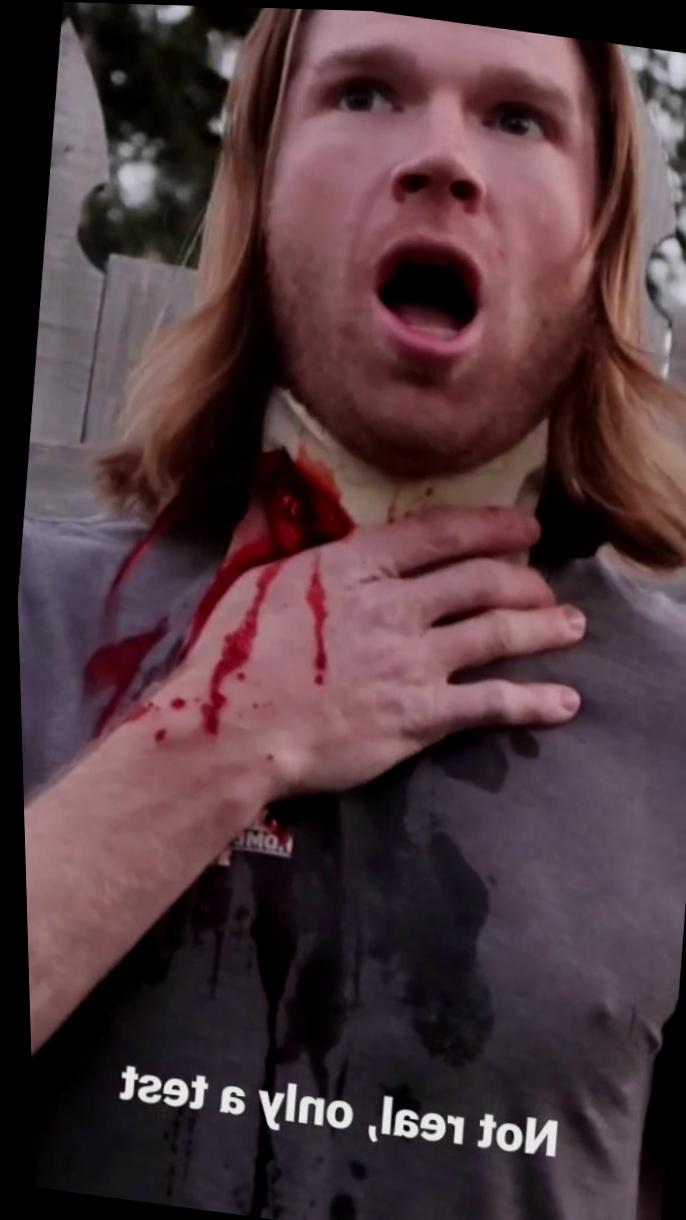Fire: (173, 447, 351, 659), (78, 495, 178, 737), (188, 560, 280, 738), (302, 551, 324, 683), (122, 669, 176, 721)
